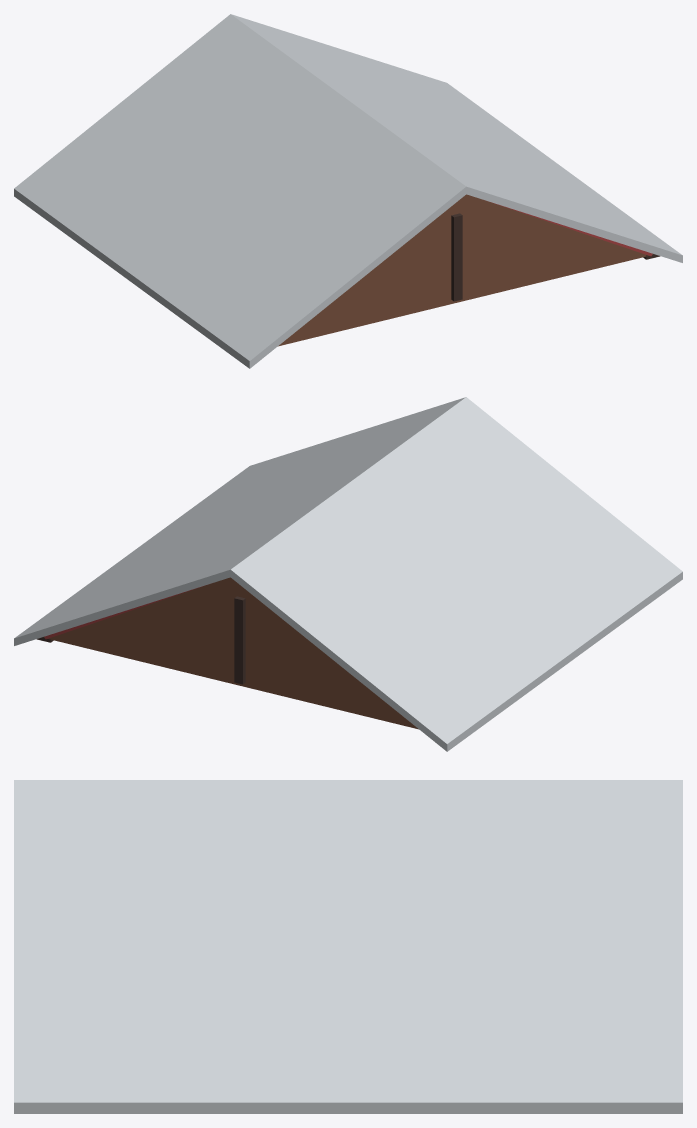
Rendered from Frosty_LodgeRoof_Standard.glb.
The picture shows the model from 3 angles, top to bottom: view 1: azimuth 30°, elevation 25°; view 2: azimuth 150°, elevation 25°; view 3: azimuth 270°, elevation 25°; orthographic projection. The views are drawn at different scales.
Visible parts, largest first — view 1: Frosty_LodgeRoof_Standard; view 2: Frosty_LodgeRoof_Standard; view 3: Frosty_LodgeRoof_Standard.
Part boxes in pixels (x1,y1,x2,y2): Frosty_LodgeRoof_Standard: (14,14,682,368); Frosty_LodgeRoof_Standard: (14,397,682,751); Frosty_LodgeRoof_Standard: (14,780,682,1113).
Bounding box in the file's own units: 7 × 2 × 6.6.
